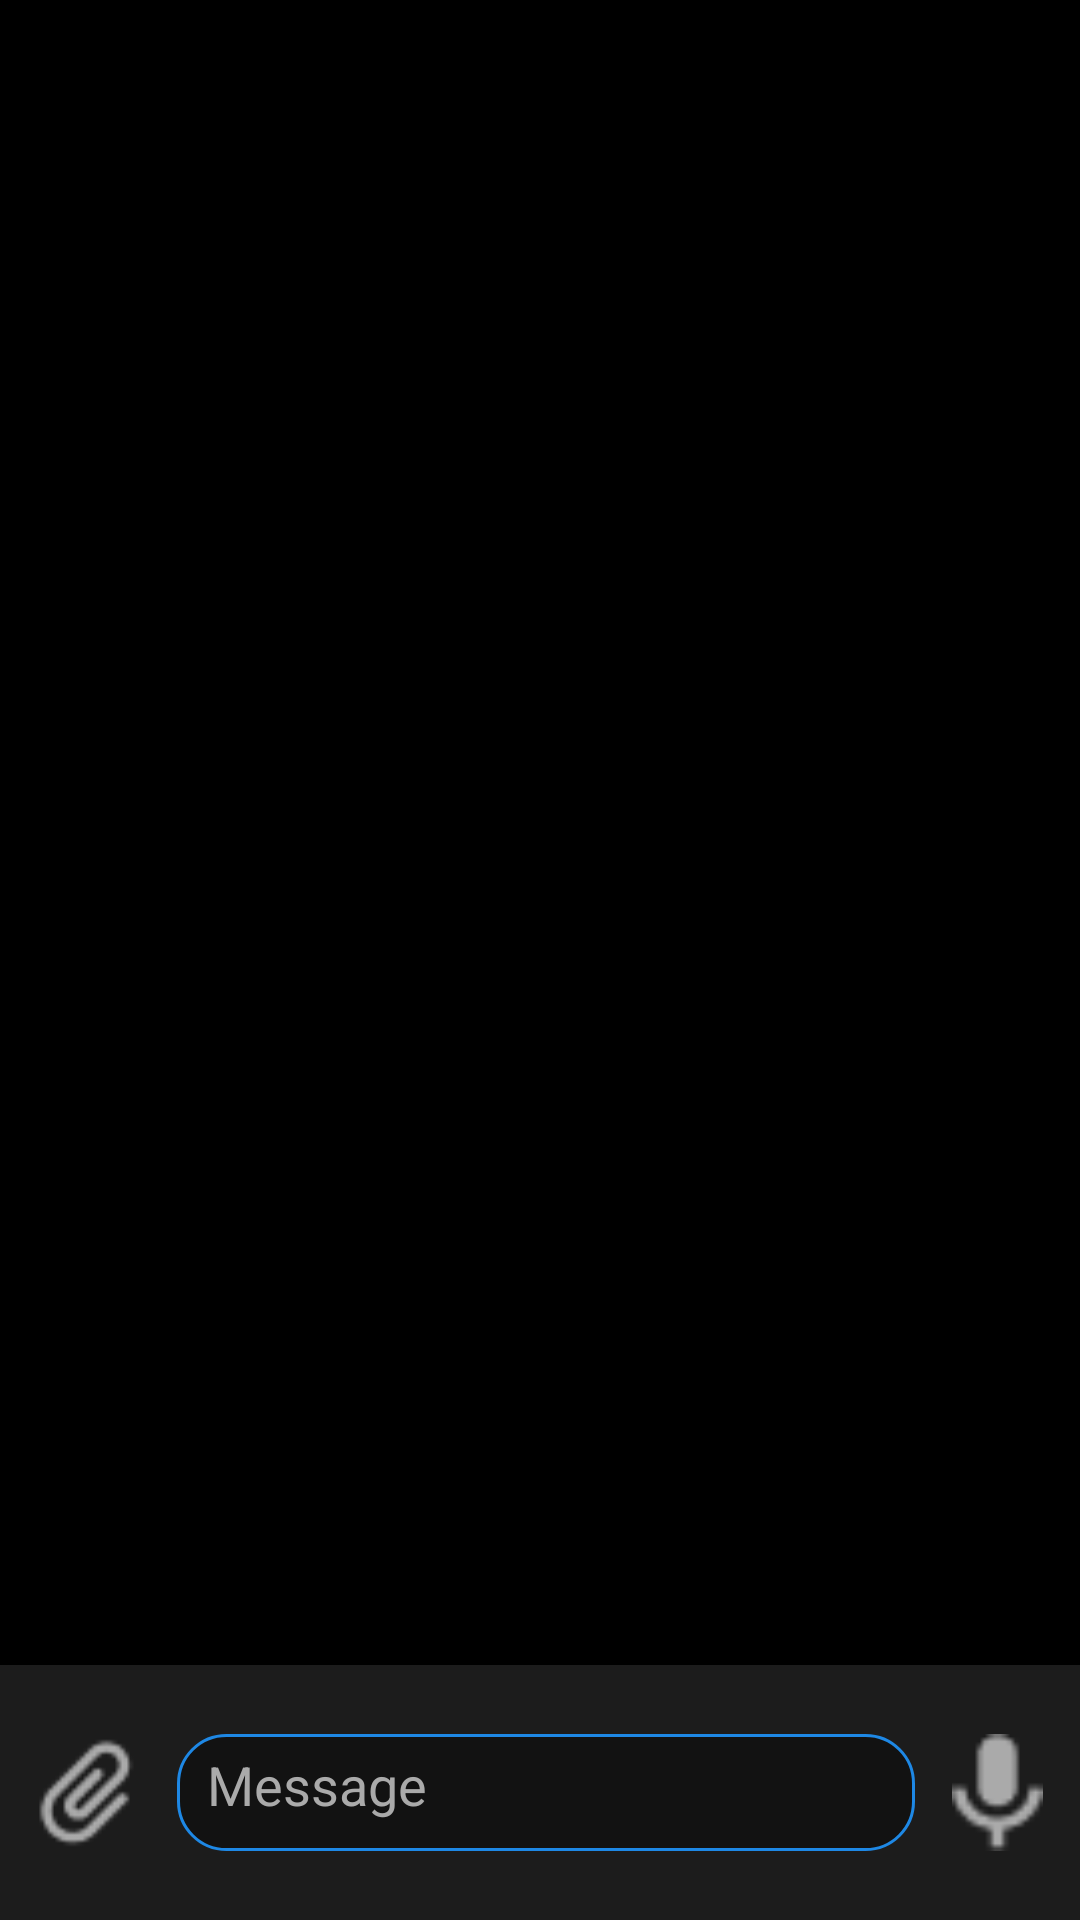

Icon bounding boxes for this 1080×1920 phone screenshot, format (x1, y1, x2, y2):
Add Media: (39, 1740, 130, 1844)
Record Audio: (952, 1734, 1043, 1851)
